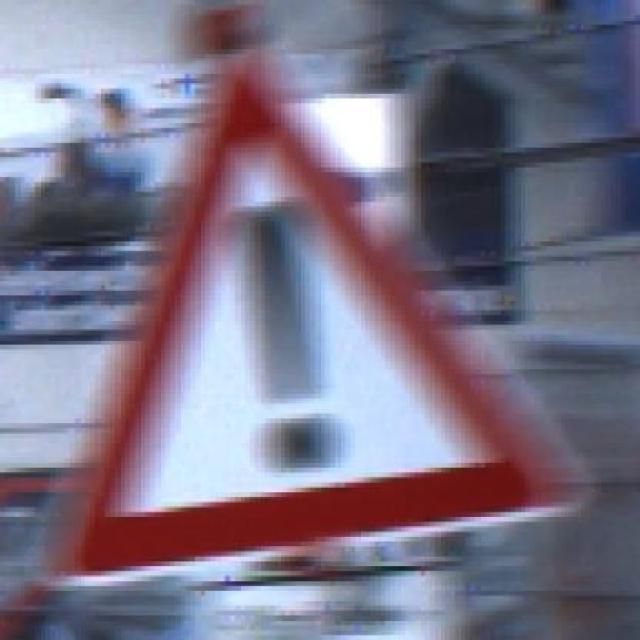Attention Please-: (30, 49, 590, 591)
